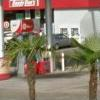Tree: (9, 27, 51, 84)
